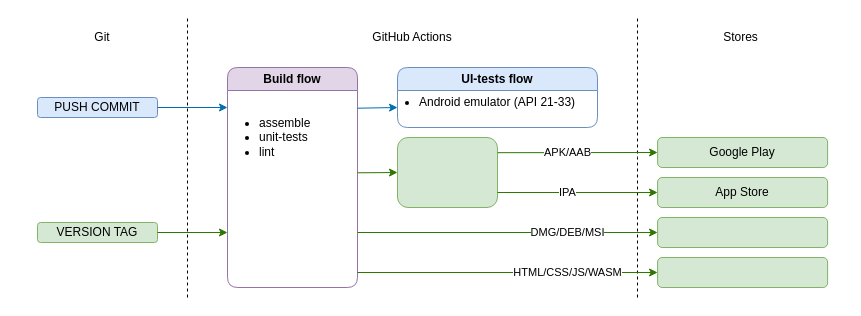
Image size: 861x316. Some labels were removed from this diagram. Here are the shapes that lost their labels. From the top down, the centre of each, then its label:
At point 447,172: "Fastlane tools".
At point 742,232: "GitHub Releases".
At point 742,272: "GitHub Pages".
